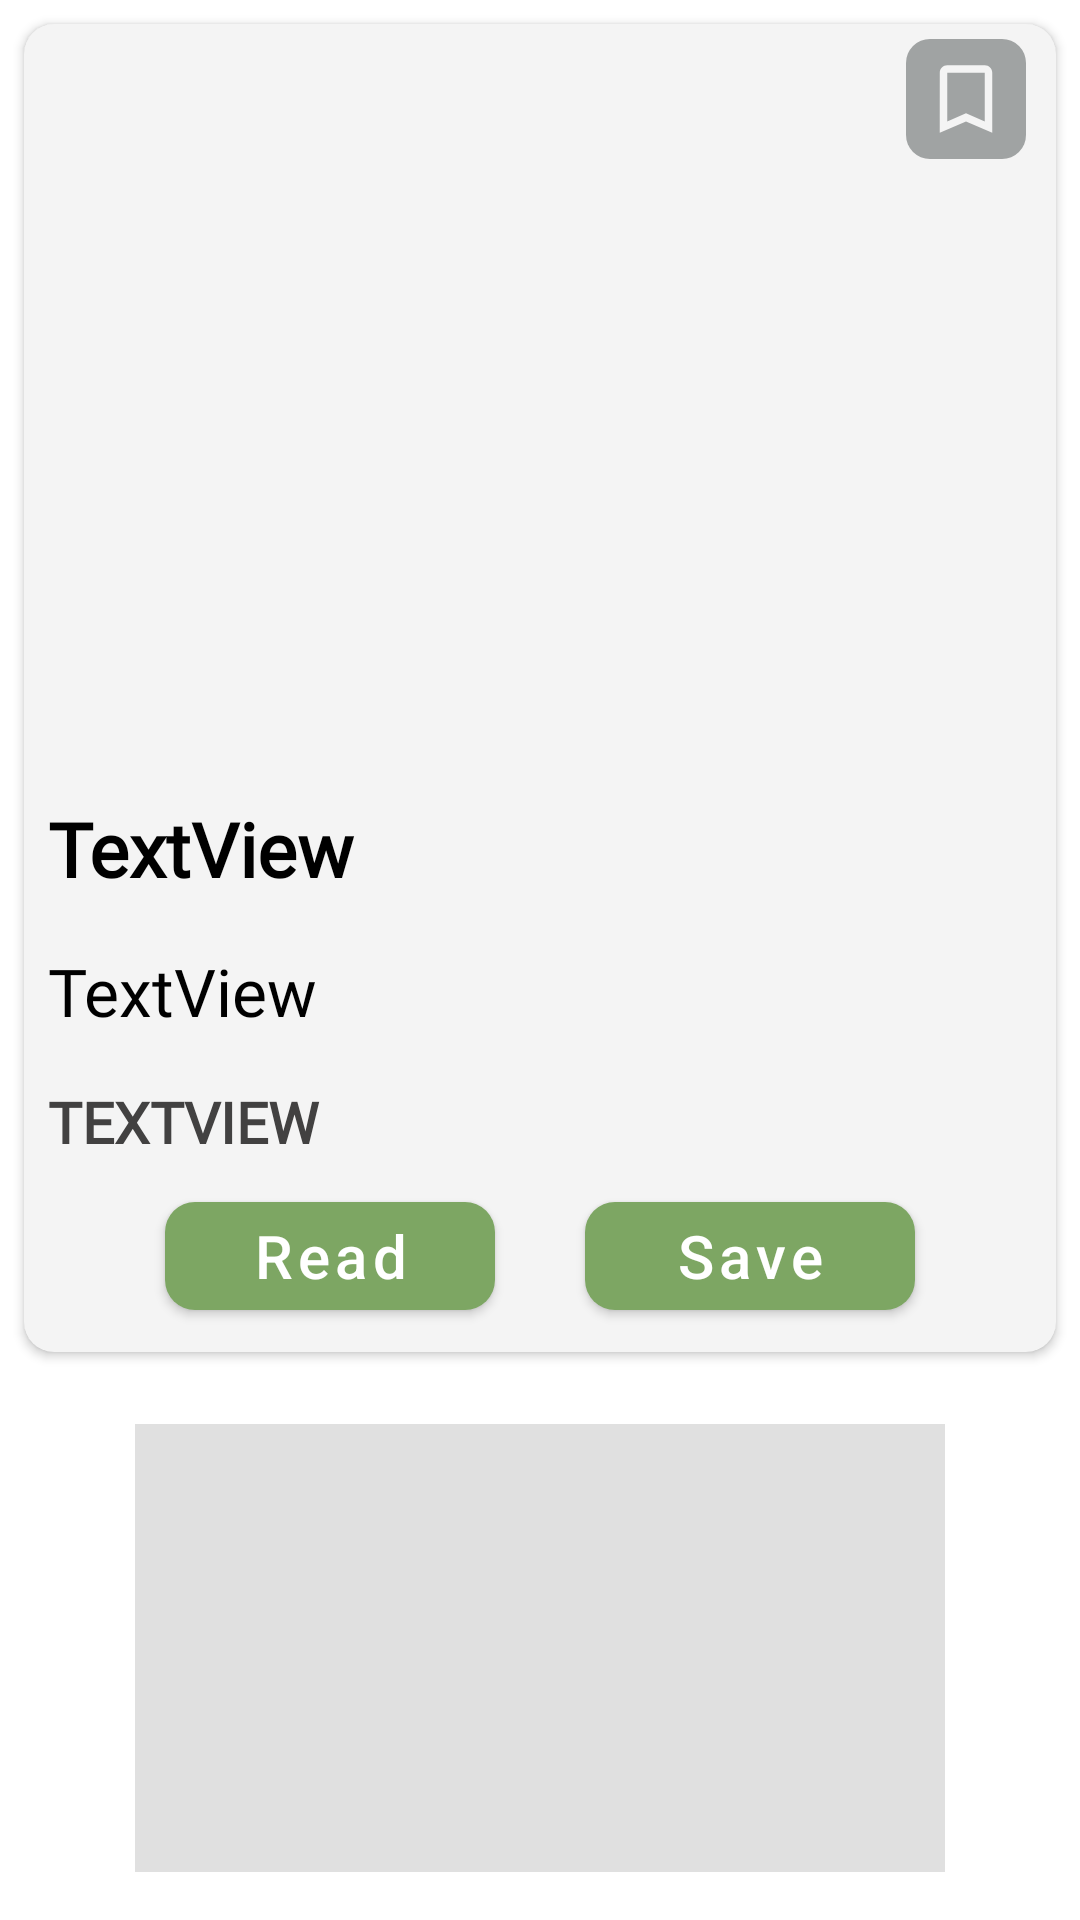

Locate icon controls on the screen. Image size 1080*1920, boxes as rect(x1, y1, x2, y2).
bookmark border: rect(906, 39, 1026, 159)
